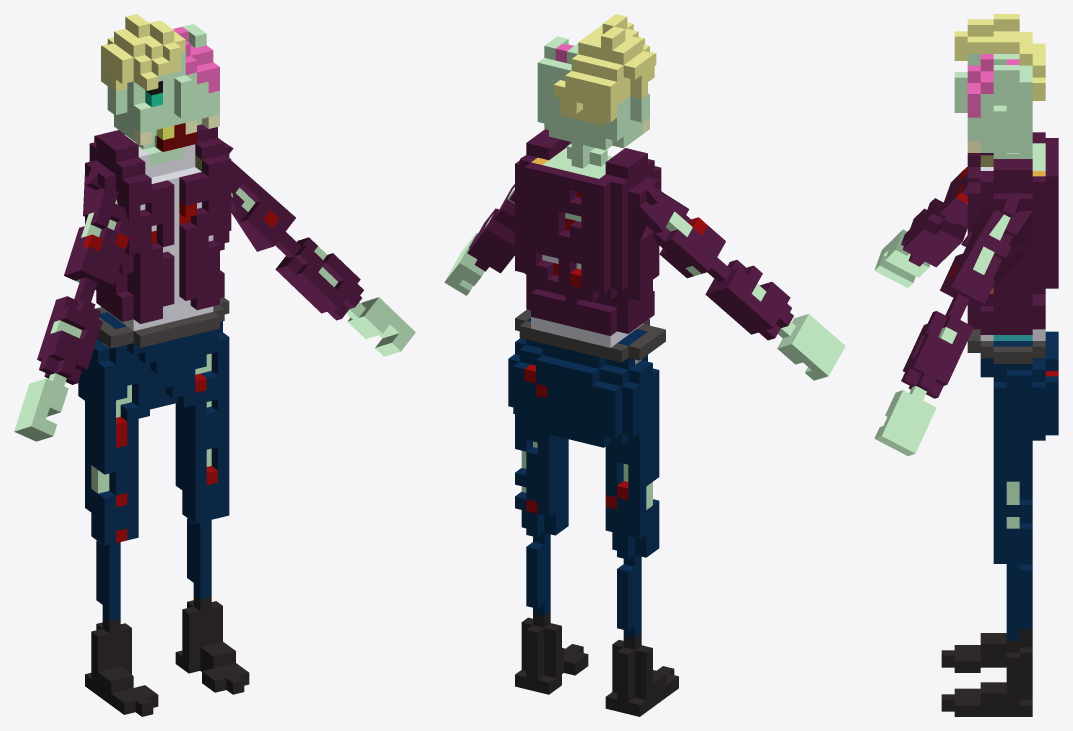
File: zombie_city.glb
The picture shows the model from 3 angles, left to right: view 1: azimuth 30°, elevation 25°; view 2: azimuth 150°, elevation 25°; view 3: azimuth 270°, elevation 25°; orthographic projection.
Parts seen in each view (by area): view 1: zombie_city; view 2: zombie_city; view 3: zombie_city.
Part boxes in pixels (x1,y1,x2,y2): zombie_city: (14,14,415,716); zombie_city: (444,14,845,716); zombie_city: (874,14,1058,716).
Size of the model in its own units: 3.39 by 5.6 by 1.42.
1 material, 1 textured.
